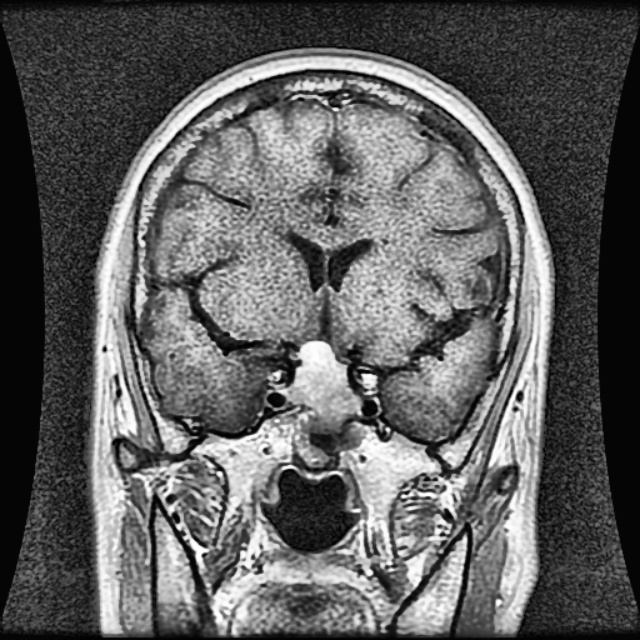Pituitary: (284, 340, 360, 428)
